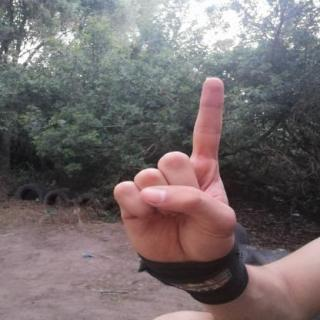BAA: (99, 67, 251, 278)
